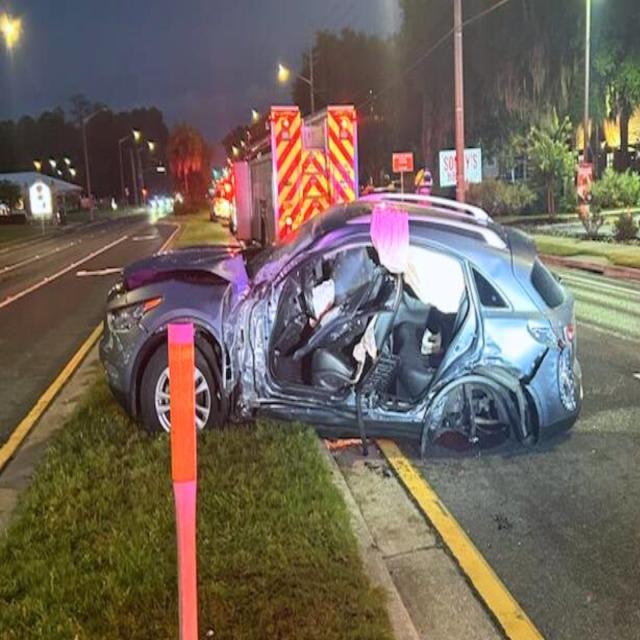Accident: (101, 188, 587, 460)
